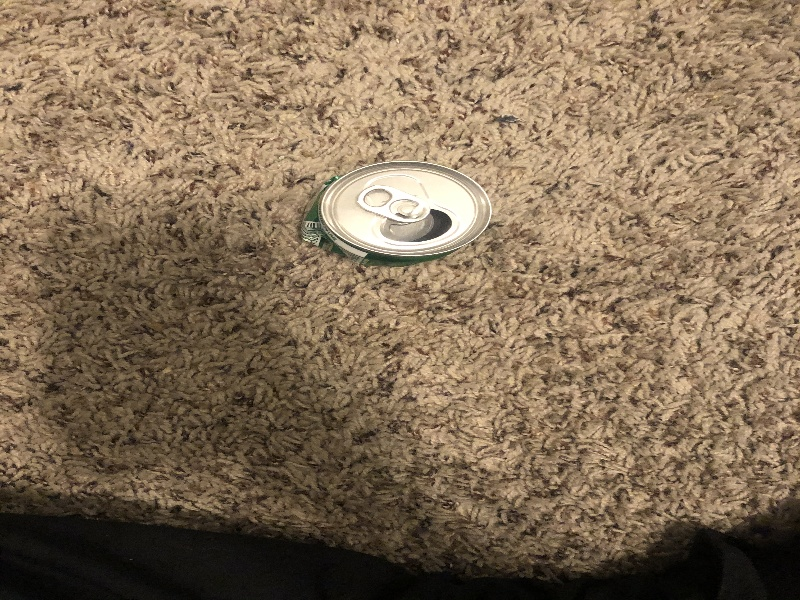metal: (295, 156, 500, 272)
